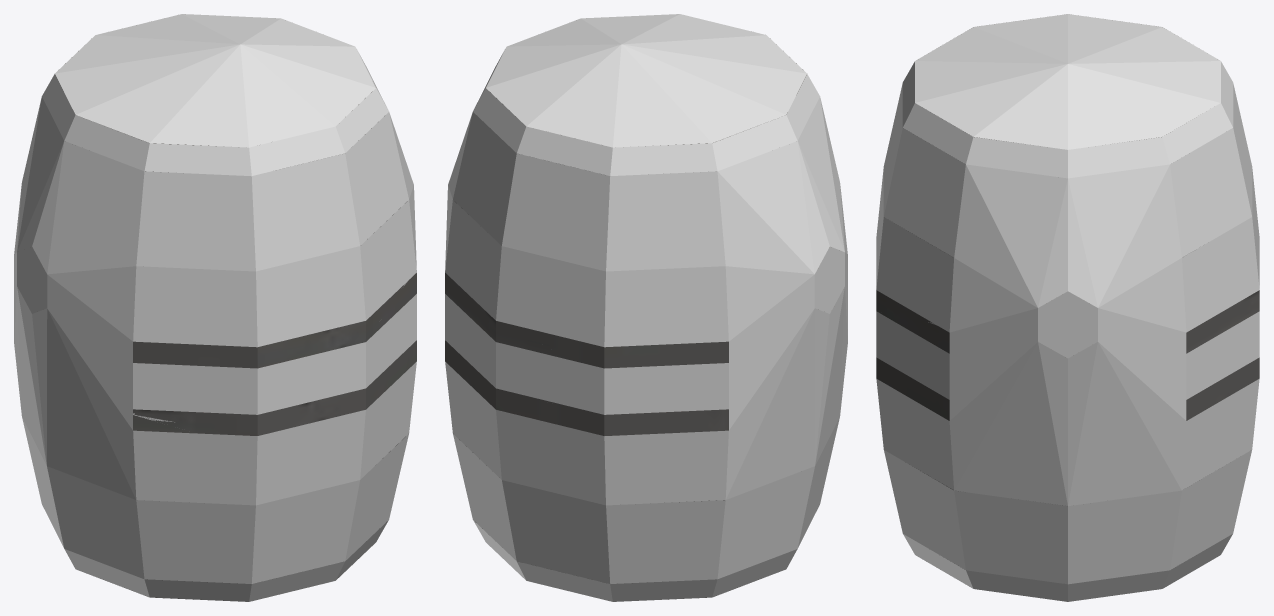
The model's file is keg.low.webp.glb.
3 views of the same model, side by side, from view 1: azimuth 30°, elevation 25°; view 2: azimuth 150°, elevation 25°; view 3: azimuth 270°, elevation 25° (orthographic).
Parts seen in each view (by area): view 1: COL, FRAC_0_l1, FRAC_6_l1, FRAC_1_l1; view 2: COL, FRAC_7_l1, FRAC_0_l1, FRAC_2_l1, FRAC_4_l1; view 3: COL, FRAC_0_l1, FRAC_6_l1.
Part boxes in pixels (x1,y1,x2,y2): COL: (14,14,416,601); FRAC_0_l1: (134,273,416,435); FRAC_6_l1: (133,284,404,413); FRAC_1_l1: (133,415,405,458); COL: (445,14,847,601); FRAC_7_l1: (497,321,728,368); FRAC_0_l1: (445,273,572,403); FRAC_2_l1: (459,395,676,599); FRAC_4_l1: (649,409,728,598); COL: (876,14,1259,601); FRAC_0_l1: (876,290,1259,420); FRAC_6_l1: (876,290,931,322).
Size of the model in its own units: 0.792 by 1 by 0.7203.
Materials: 1 (1 with a texture image).
